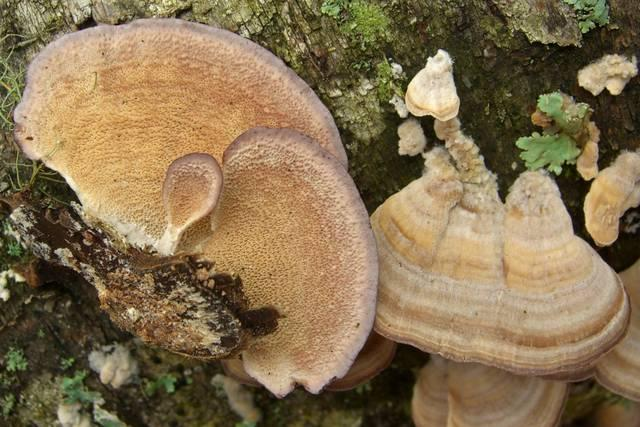Non-edible Mushroom: (10, 16, 390, 399), (367, 47, 634, 426)
